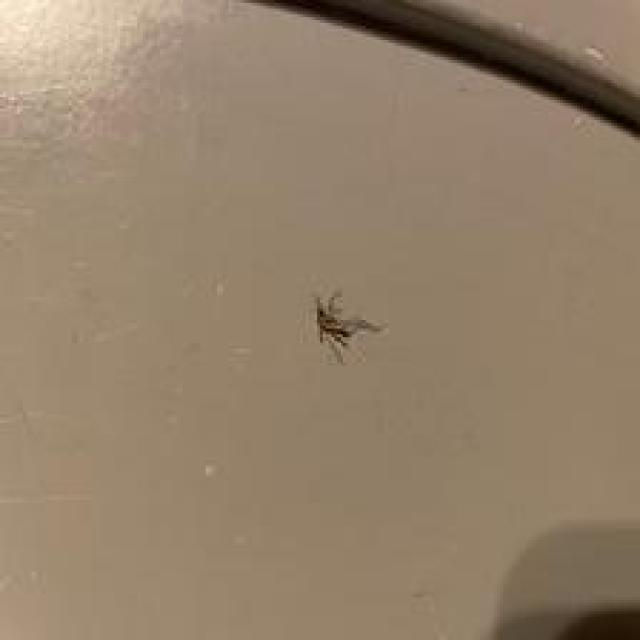Culex: (310, 290, 384, 364)
